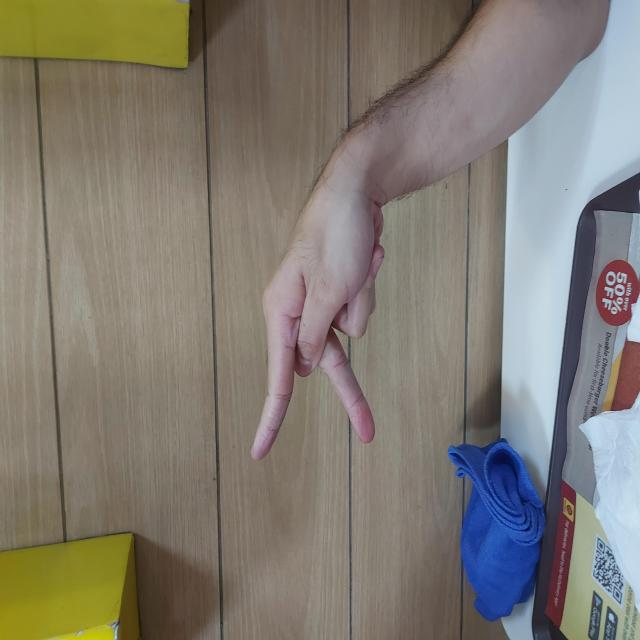P: (175, 245, 480, 388)
